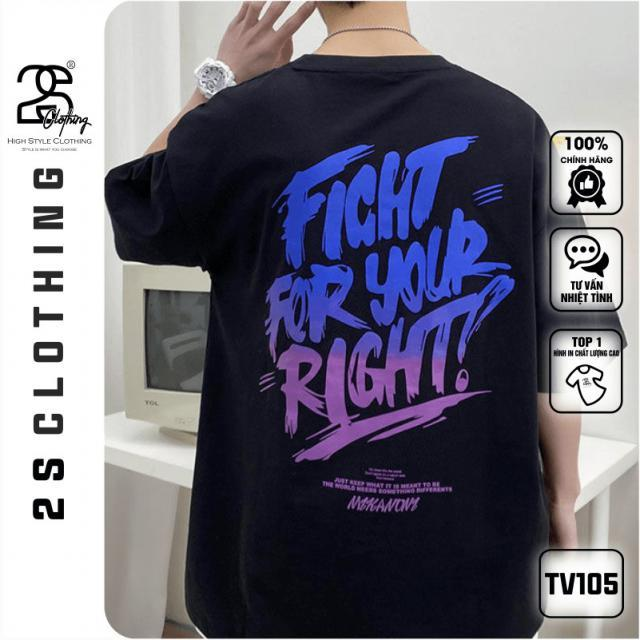Shirt: (102, 41, 625, 640)
